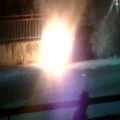fire: (40, 23, 71, 75)
